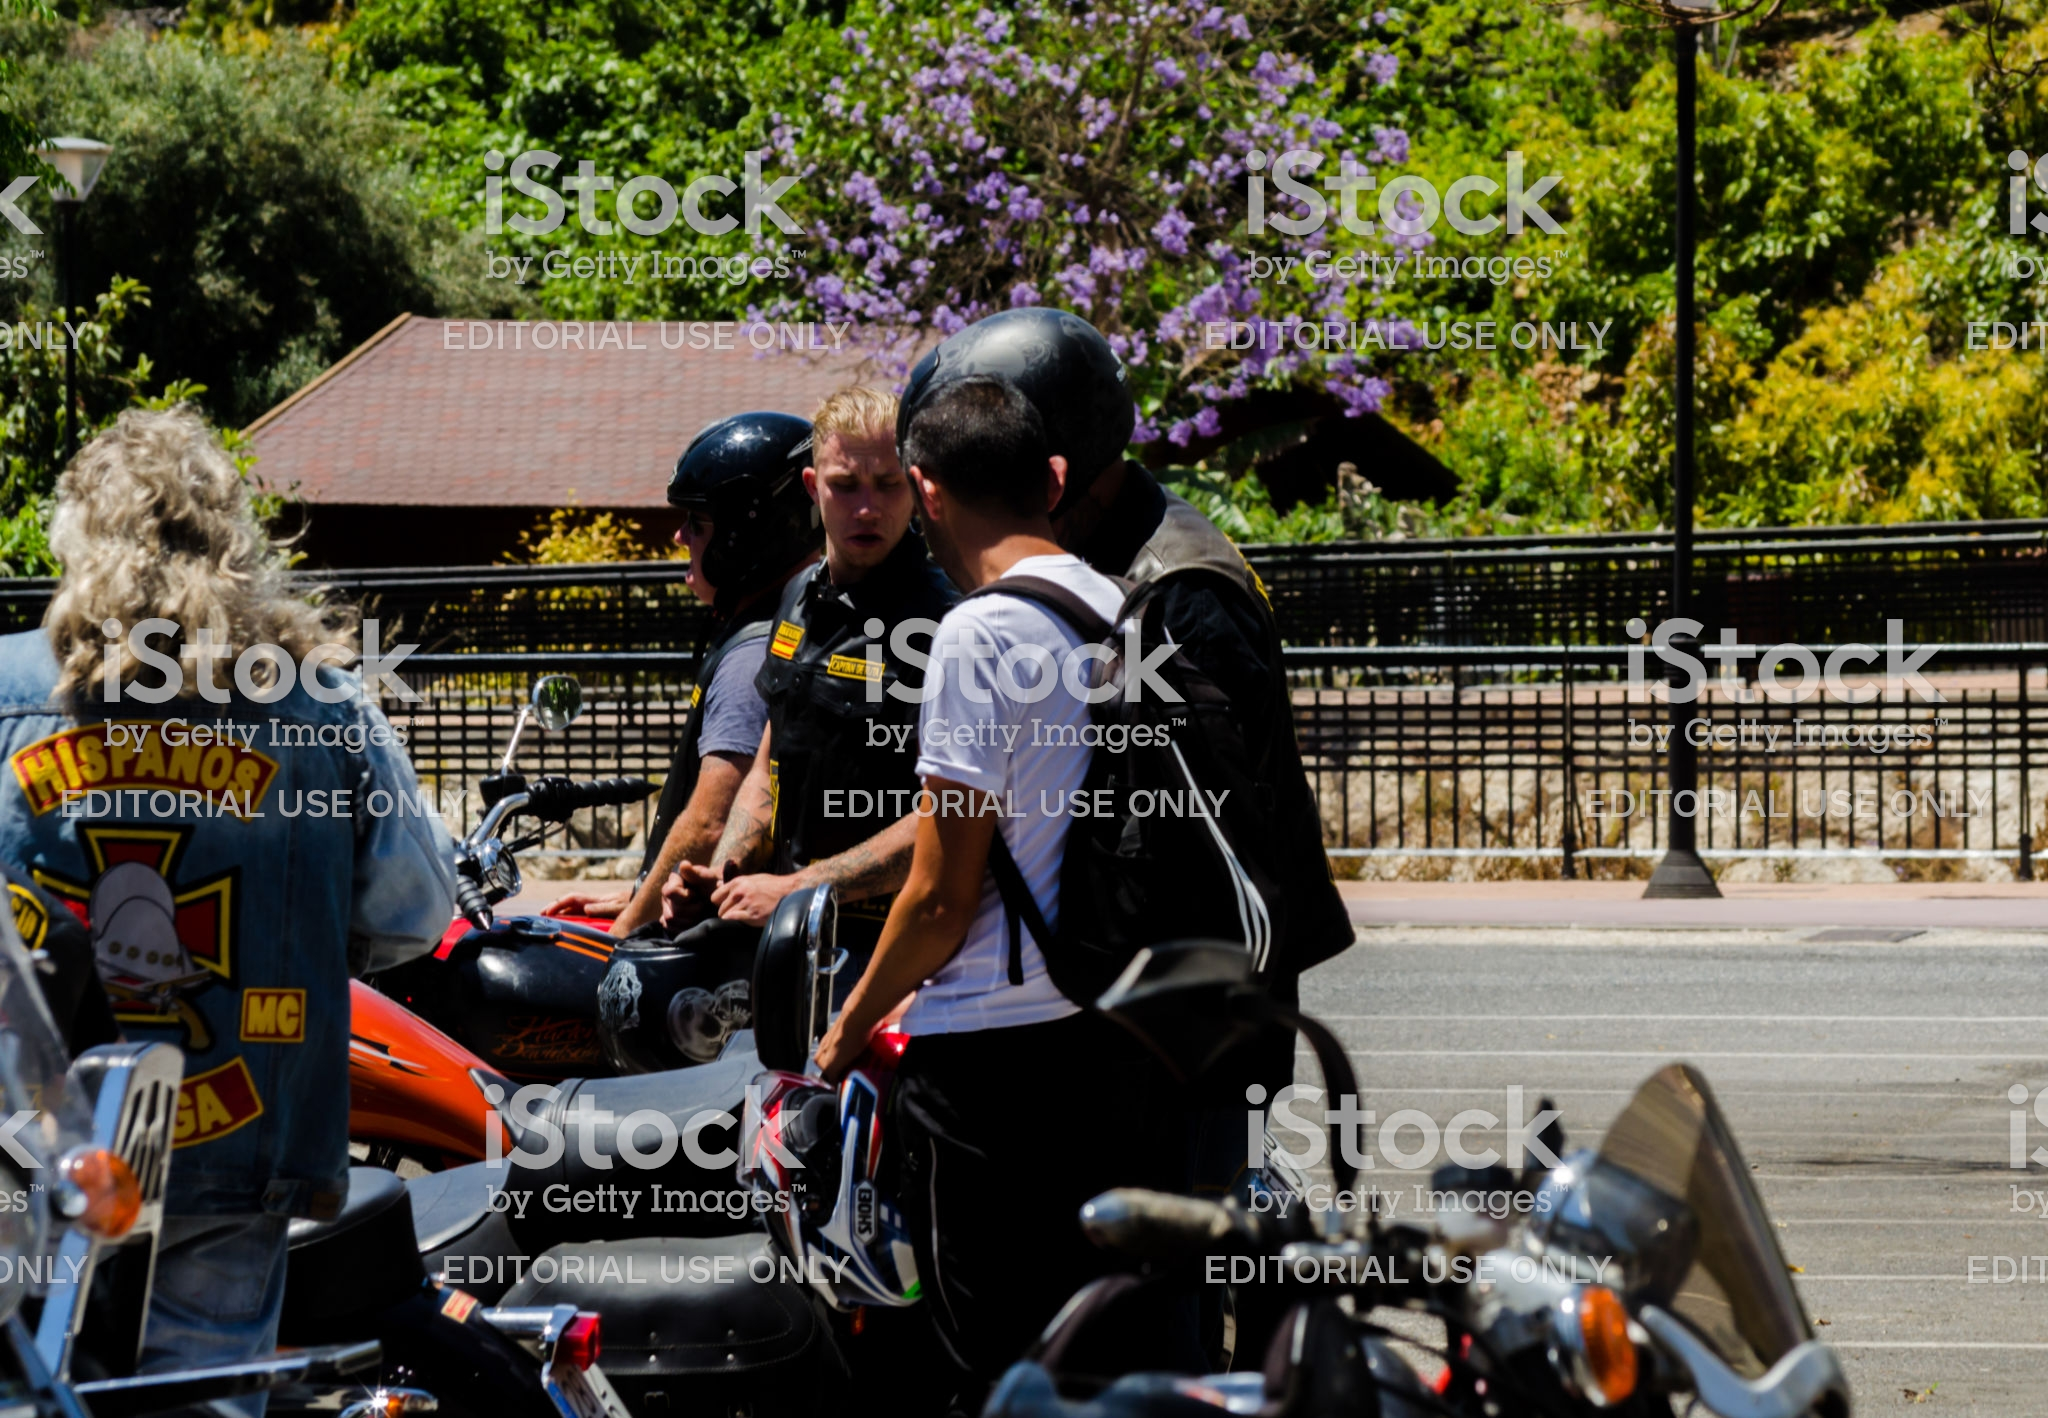helmet: (856, 321, 1141, 483), (661, 408, 847, 593)
